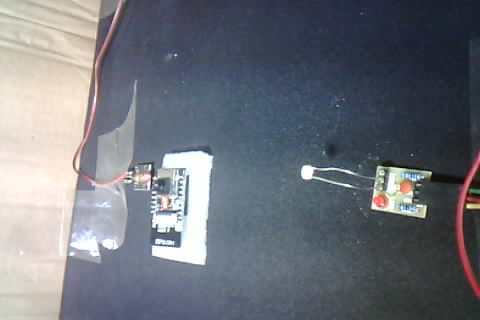esp32: (148, 149, 212, 259)
